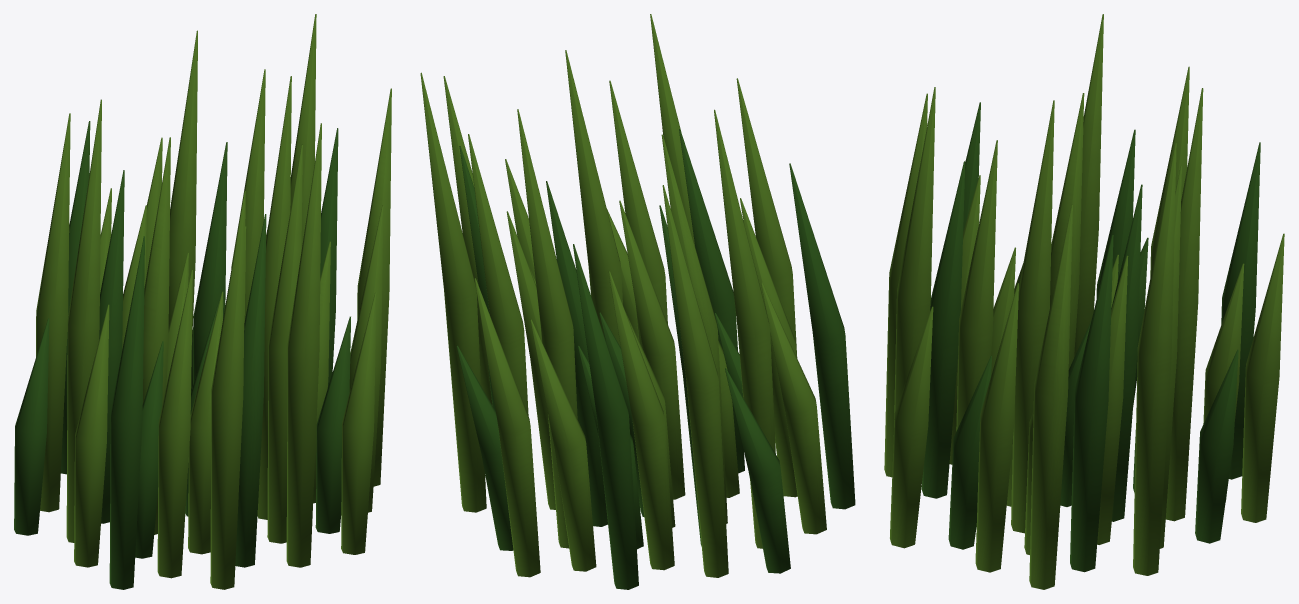
Rendered from SM_shrub.fbx.
3 renders of one model, left to right at view 1: azimuth 30°, elevation 25°; view 2: azimuth 150°, elevation 25°; view 3: azimuth 270°, elevation 25°, orthographic. The views are drawn at different scales.
Visible parts, largest first — view 1: SM_shrub; view 2: SM_shrub; view 3: SM_shrub.
Part boxes in pixels (bbox=[...]): SM_shrub: bbox=[14, 14, 391, 589]; SM_shrub: bbox=[420, 14, 855, 589]; SM_shrub: bbox=[884, 14, 1284, 589].
Bounding box in the file's own units: 0.5758 × 0.5289 × 0.6521.
